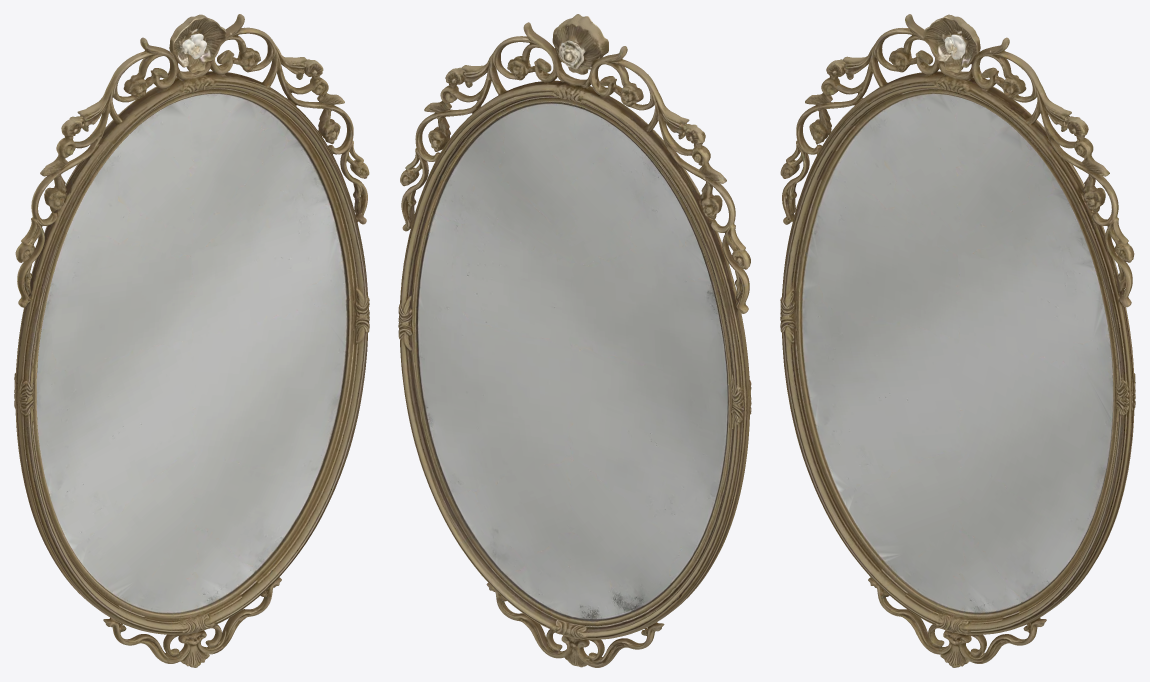
Rendered from wall_mirror.glb.
3 renders of one model, left to right at view 1: azimuth 30°, elevation 25°; view 2: azimuth 150°, elevation 25°; view 3: azimuth 330°, elevation 25°, orthographic.
Visible parts, largest first — view 1: Object_4; view 2: Object_4; view 3: Object_4.
Boxes of the visible parts, x1,y1,x2,y2 form: Object_4: (14, 14, 369, 667); Object_4: (398, 14, 751, 667); Object_4: (780, 14, 1135, 667).
Bounding box in the file's own units: 1.07 × 1.9 × 0.0806.
Materials: 1 (1 with a texture image).
